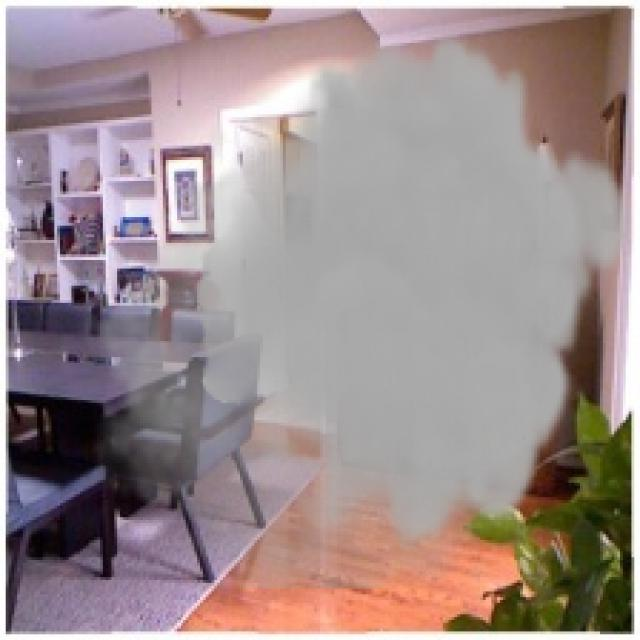smoke: (77, 29, 634, 588)
